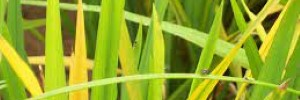RiceTungro: (246, 1, 298, 71), (1, 35, 46, 100), (189, 45, 241, 99), (68, 1, 88, 100)
